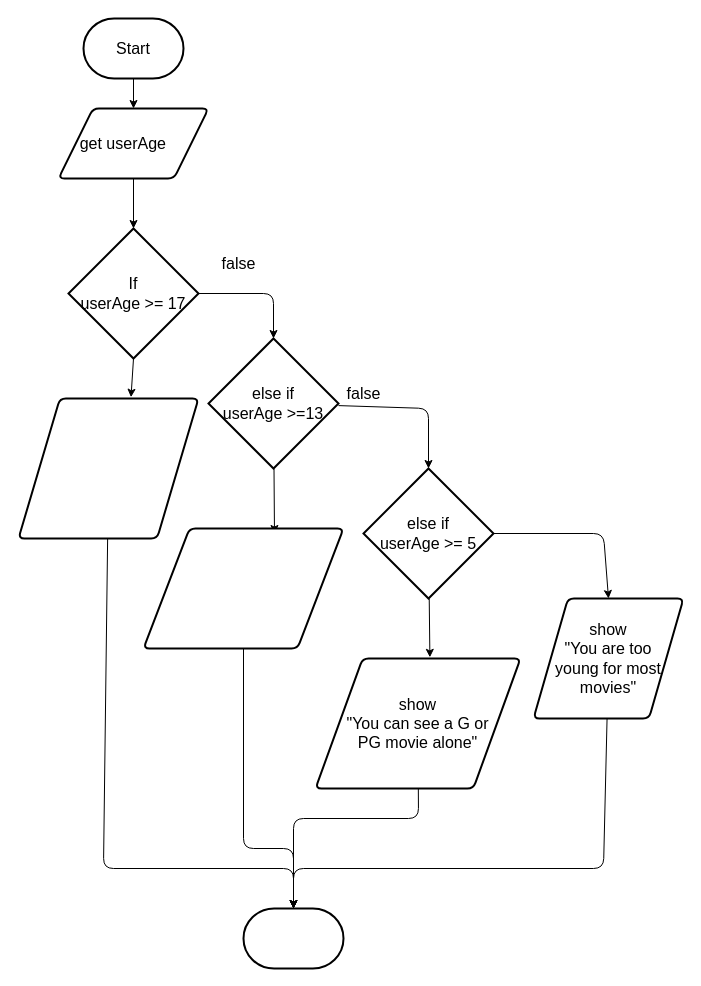
The diagram is 701 pixels wide and 986 high, and some of its shapes have lost their labels. The centre of each missing label's shape, as x and y in pixels:
show "You can see a PG-13 movie alone": (x=243, y=588)
show "You can see an R movie alone": (x=108, y=468)
Stop: (x=293, y=938)
